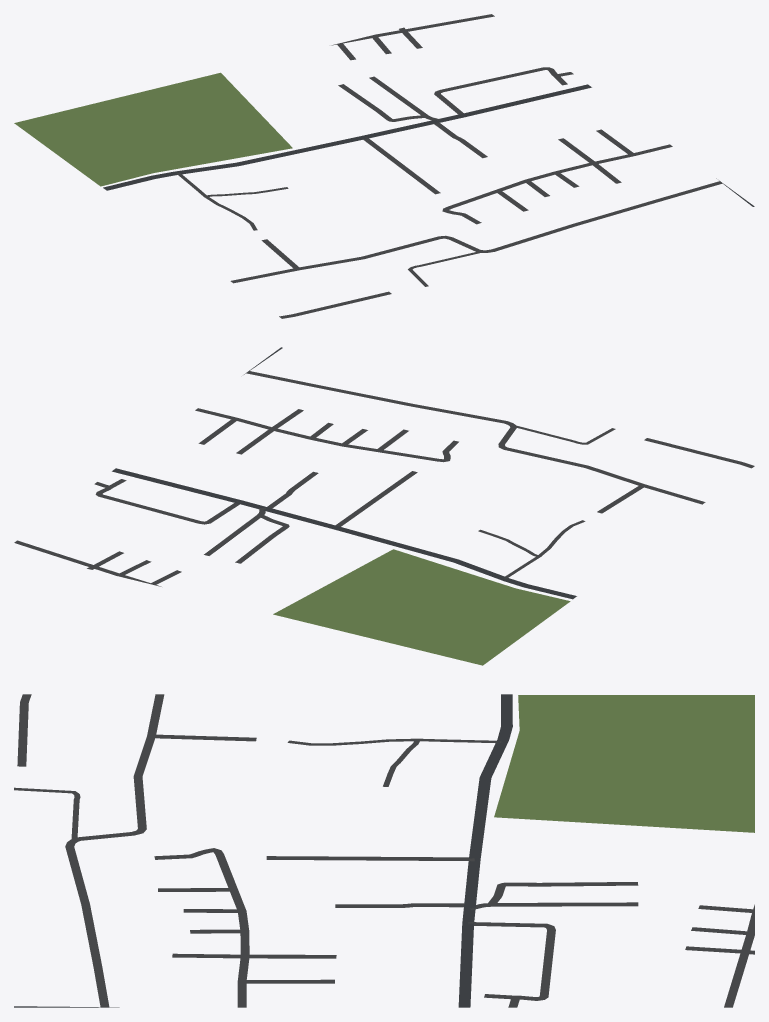
The picture shows the model from 3 angles, top to bottom: view 1: azimuth 30°, elevation 25°; view 2: azimuth 150°, elevation 25°; view 3: azimuth 270°, elevation 25°; orthographic projection. The views are drawn at different scales.
Visible parts, largest first — view 1: ground; view 2: ground; view 3: ground.
Part boxes in pixels (x1,y1,x2,y2): ground: (14,14,754,318); ground: (14,347,754,665); ground: (14,694,754,1007).
Size of the model in its own units: 500 by 0.4 by 500.
